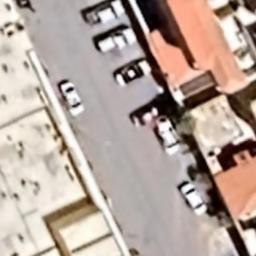sedan: (151, 115, 187, 157), (174, 176, 210, 218), (56, 76, 88, 120), (80, 0, 129, 26), (114, 58, 153, 90), (130, 98, 168, 130)
unknown: (90, 26, 141, 56)
